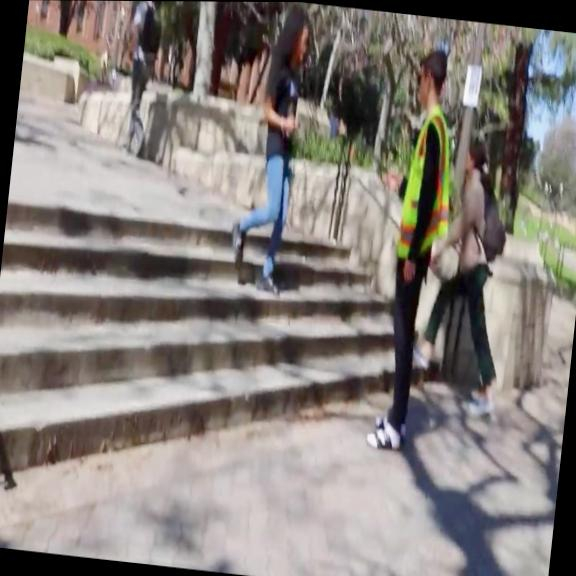safety_vest: (393, 100, 461, 263)
